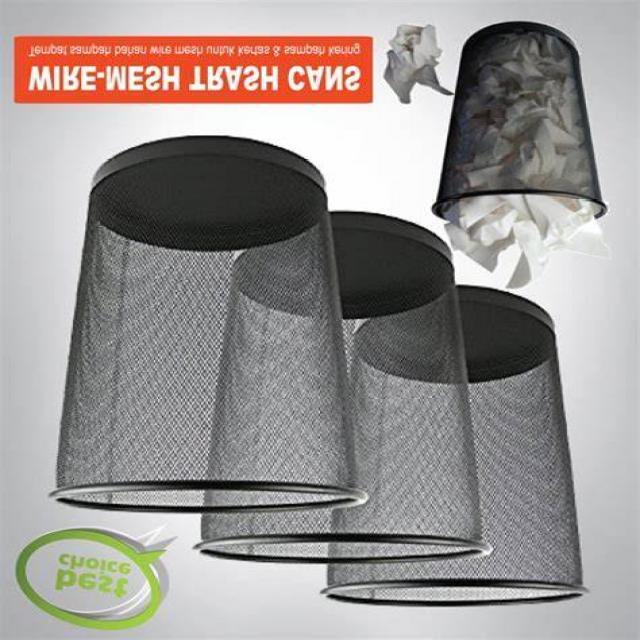garbage container: (27, 138, 376, 525), (202, 223, 462, 579), (328, 285, 605, 619), (413, 20, 640, 293)
